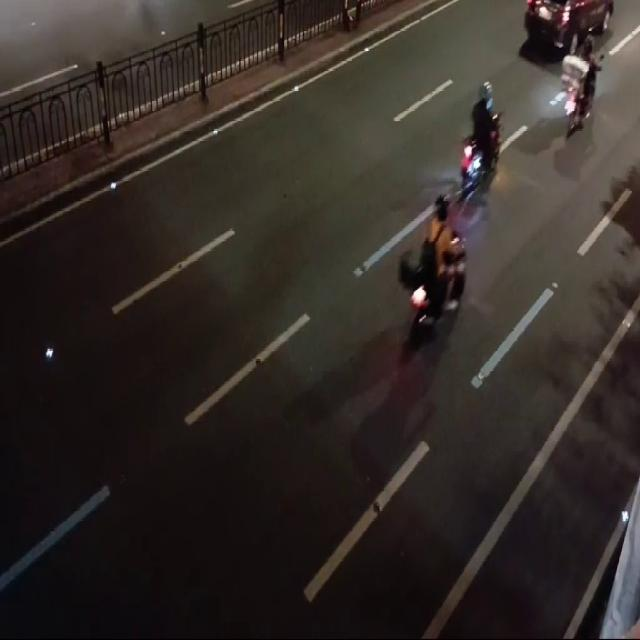motorcycle: (399, 204, 470, 339), (459, 70, 506, 201), (564, 31, 606, 140)
